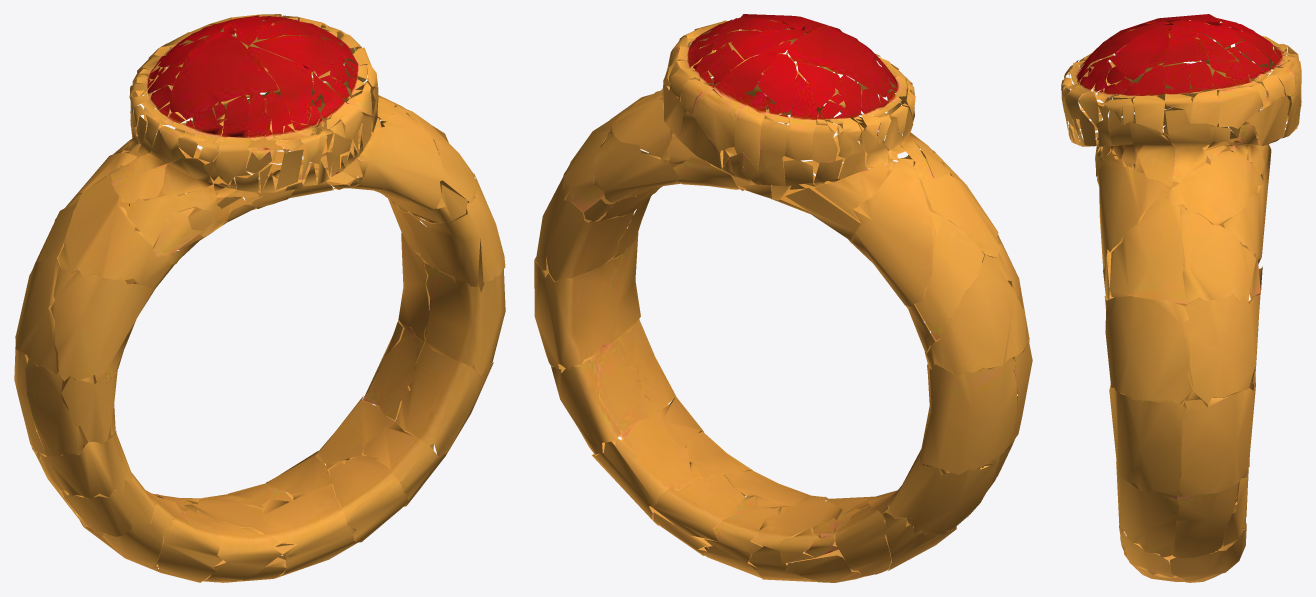
Rendered from ring.glb.
3 renders of one model, left to right at view 1: azimuth 30°, elevation 25°; view 2: azimuth 150°, elevation 25°; view 3: azimuth 270°, elevation 25°, orthographic. The views are drawn at different scales.
Visible parts, largest first — view 1: ring; view 2: ring; view 3: ring.
Boxes of the visible parts, <box> form: ring: <box>14,14,505,582</box>; ring: <box>534,14,1032,582</box>; ring: <box>1061,14,1301,582</box>.
Bounding box in the file's own units: 0.0217 × 0.024 × 0.00982.
Materials: 1 (1 with a texture image).
